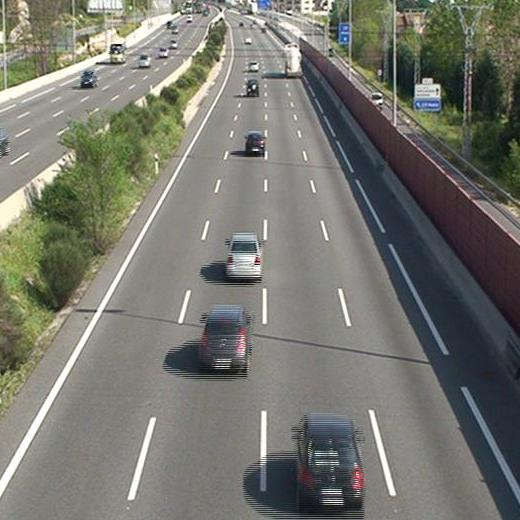car: (293, 416, 363, 506), (199, 308, 250, 368), (226, 235, 263, 279), (245, 131, 264, 153), (245, 78, 258, 95), (247, 61, 258, 71)
tank-truck: (284, 43, 303, 77)
